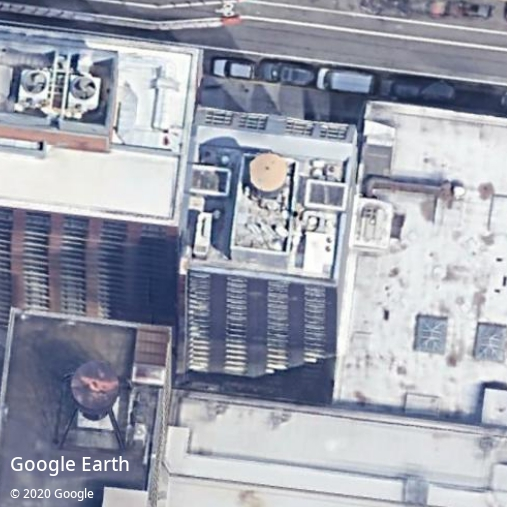Vent: (70, 76, 96, 100), (22, 70, 47, 94)
